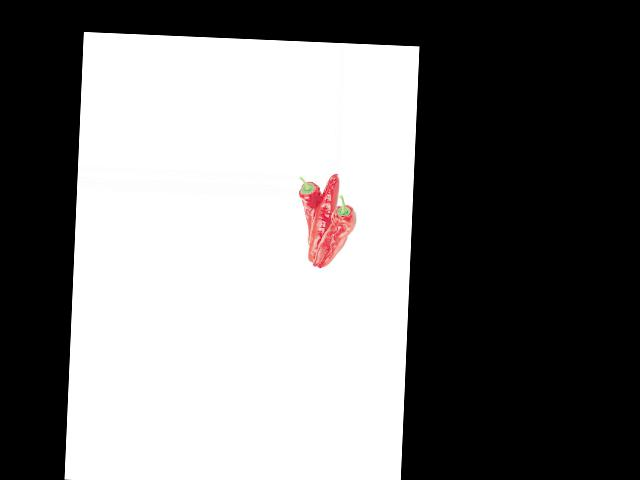bell_pepper: (321, 192, 359, 270)
